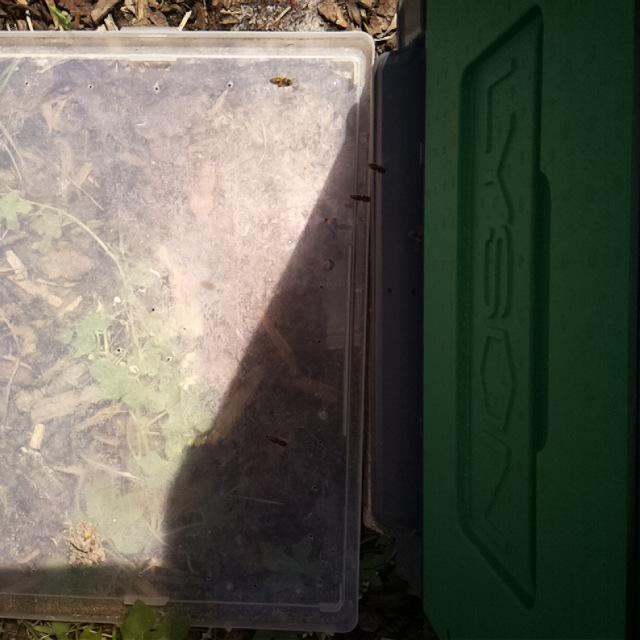worker-bee: (261, 430, 294, 454), (406, 226, 427, 250), (349, 190, 374, 210), (366, 161, 391, 176), (272, 77, 293, 89)
